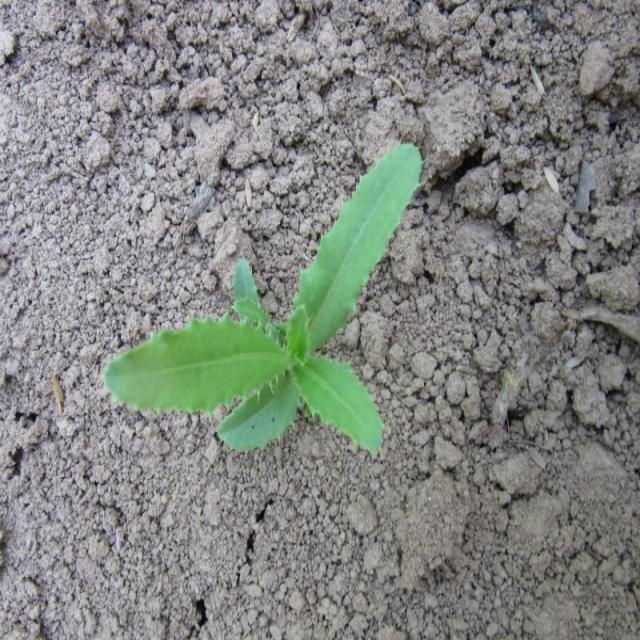cs: (103, 132, 426, 470)
